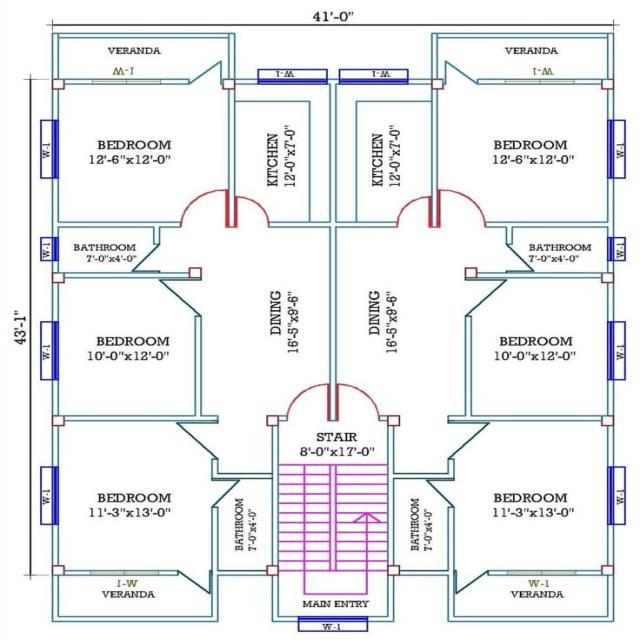Blueprint: (39, 19, 626, 631)
column: (47, 269, 72, 287), (596, 269, 619, 288), (46, 412, 70, 430), (262, 412, 284, 431), (426, 76, 449, 94), (219, 75, 240, 94), (596, 412, 618, 430), (596, 76, 620, 92), (48, 75, 68, 94), (460, 264, 481, 282), (185, 264, 206, 282), (384, 561, 404, 579), (384, 412, 403, 430), (597, 562, 617, 578), (262, 562, 282, 578), (48, 563, 69, 578)
wall: (328, 82, 338, 422), (435, 30, 609, 41), (270, 424, 282, 568), (451, 614, 611, 623), (227, 86, 237, 228), (57, 32, 230, 40), (431, 32, 438, 228), (55, 615, 220, 623), (62, 271, 191, 281), (62, 414, 221, 422), (446, 414, 604, 422), (210, 505, 220, 623), (446, 506, 456, 624), (386, 424, 394, 567), (484, 220, 610, 229), (266, 220, 398, 228), (475, 272, 603, 280), (464, 314, 473, 418), (56, 221, 182, 228), (195, 315, 202, 417), (215, 471, 275, 482), (605, 573, 616, 624), (51, 177, 60, 239), (606, 177, 615, 238), (605, 31, 615, 82), (270, 573, 280, 623), (50, 424, 61, 468), (50, 32, 60, 80), (50, 574, 60, 622), (386, 574, 395, 624), (606, 424, 616, 468), (227, 32, 236, 80), (50, 281, 60, 323), (50, 524, 60, 566), (391, 472, 450, 479), (604, 87, 616, 121), (606, 523, 615, 568), (606, 282, 615, 324), (216, 569, 269, 576), (397, 569, 450, 576), (51, 378, 60, 417), (606, 378, 615, 417), (51, 88, 60, 121), (477, 77, 508, 86), (572, 77, 604, 85), (504, 225, 515, 247), (446, 458, 457, 480), (62, 569, 92, 577), (276, 614, 300, 624), (233, 77, 259, 86), (576, 568, 605, 576), (210, 457, 220, 479), (159, 78, 190, 85), (366, 615, 396, 622), (62, 78, 94, 84), (157, 568, 180, 576), (486, 569, 509, 577), (152, 225, 160, 245), (50, 259, 60, 275), (275, 414, 290, 422), (325, 77, 341, 84), (606, 260, 614, 274), (376, 414, 388, 422)
